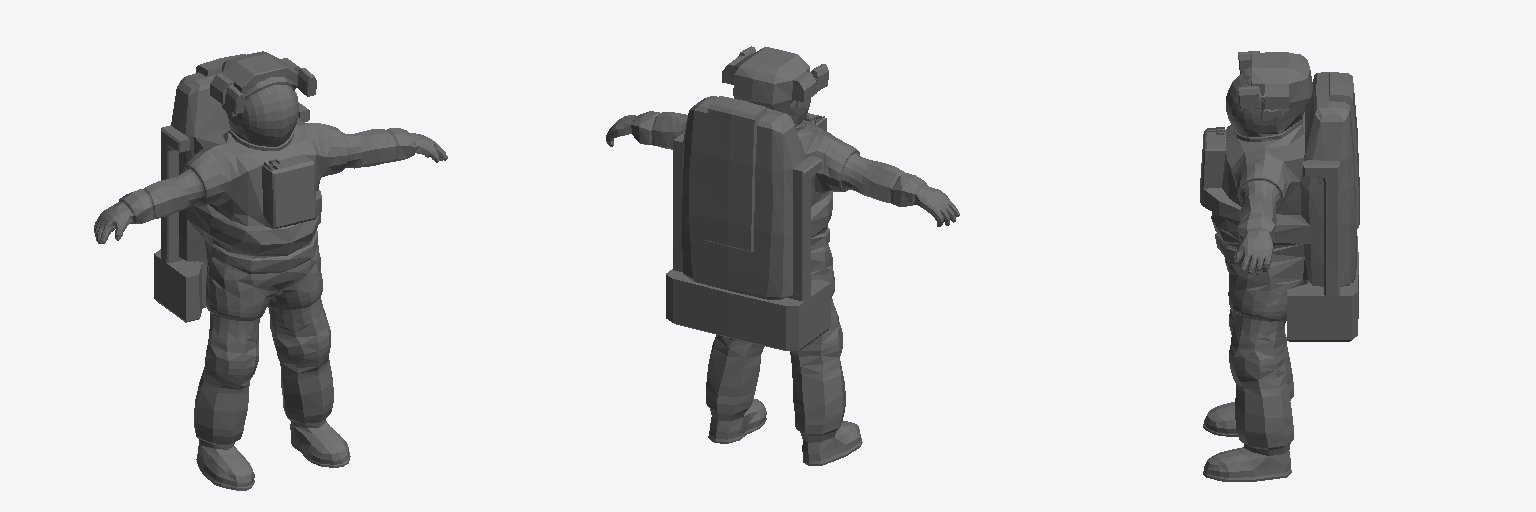
File: astron.obj
The picture shows the model from 3 angles: view 1: azimuth 30°, elevation 25°; view 2: azimuth 150°, elevation 25°; view 3: azimuth 270°, elevation 25°; orthographic projection.
Visible parts, largest first — view 1: astronaut1; view 2: astronaut1; view 3: astronaut1.
Boxes of the visible parts, x1,y1,x2,y2 form: astronaut1: [94, 51, 447, 490]; astronaut1: [606, 46, 959, 465]; astronaut1: [1200, 51, 1359, 481].
Size of the model in its own units: 6.89 by 7.43 by 2.76.